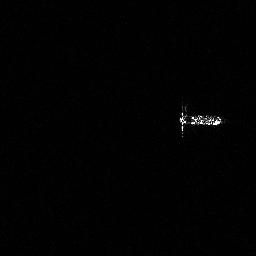ship: (175, 105, 224, 140)
